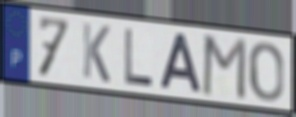7: (36, 15, 71, 80)
A: (158, 31, 205, 95)
K: (81, 20, 112, 86)
L: (122, 26, 155, 88)
M: (200, 33, 248, 103)
O: (247, 40, 286, 104)
